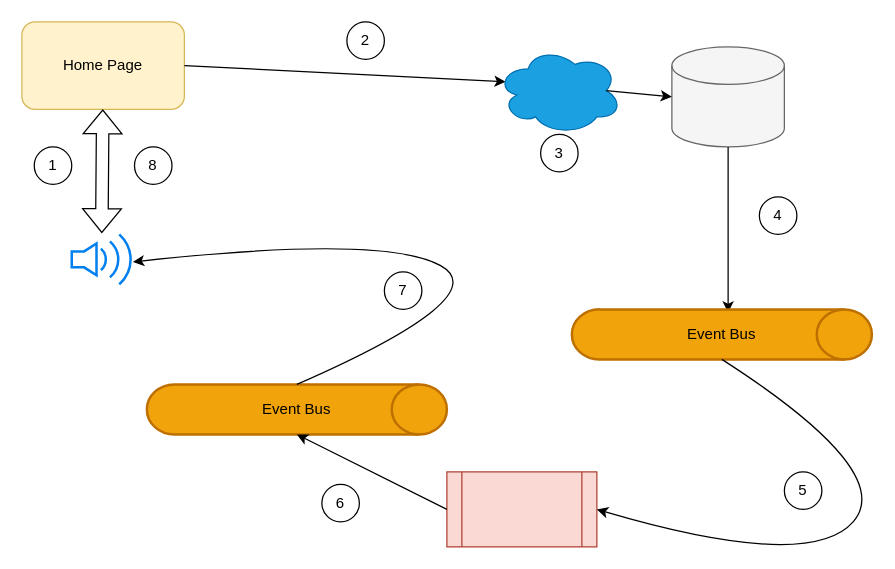
The diagram is 895 pixels wide and 569 high, and some of its shapes have lost their labels. The shapes that lost their labels are listed below. From the top down, each one's centre as x and y in pixels, then its label:
At point (559, 90): "SFDC".
At point (727, 96): "Queue (FTB)".
At point (102, 258): "CometD".
At point (521, 509): "Data Fetch Operation".
